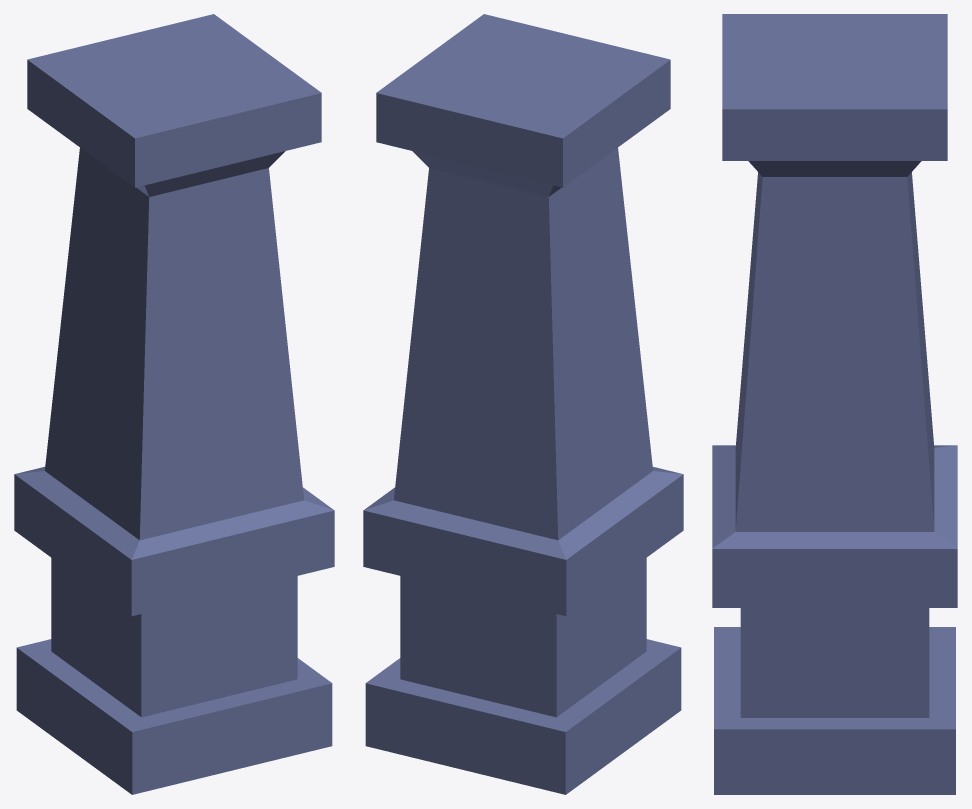
Rendered from column_small_5_1.fbx.
3 views of the same model, side by side, from view 1: azimuth 30°, elevation 25°; view 2: azimuth 150°, elevation 25°; view 3: azimuth 270°, elevation 25° (orthographic). The views are drawn at different scales.
Parts seen in each view (by area): view 1: column_small_5_1; view 2: column_small_5_1; view 3: column_small_5_1.
Boxes of the visible parts, x1=… form: column_small_5_1: x1=14, y1=14, x2=334, y2=794; column_small_5_1: x1=363, y1=14, x2=683, y2=794; column_small_5_1: x1=712, y1=14, x2=957, y2=794.
Size of the model in its own units: 1.32 by 4.05 by 1.32.
